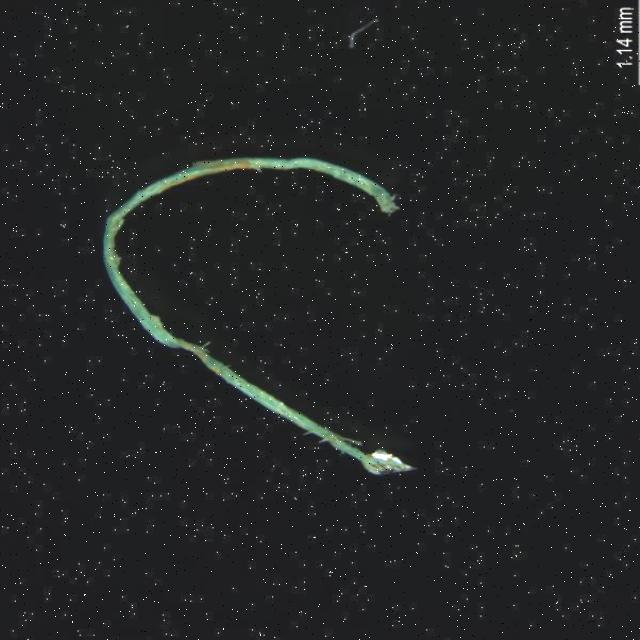Fibre: (96, 153, 414, 480)
